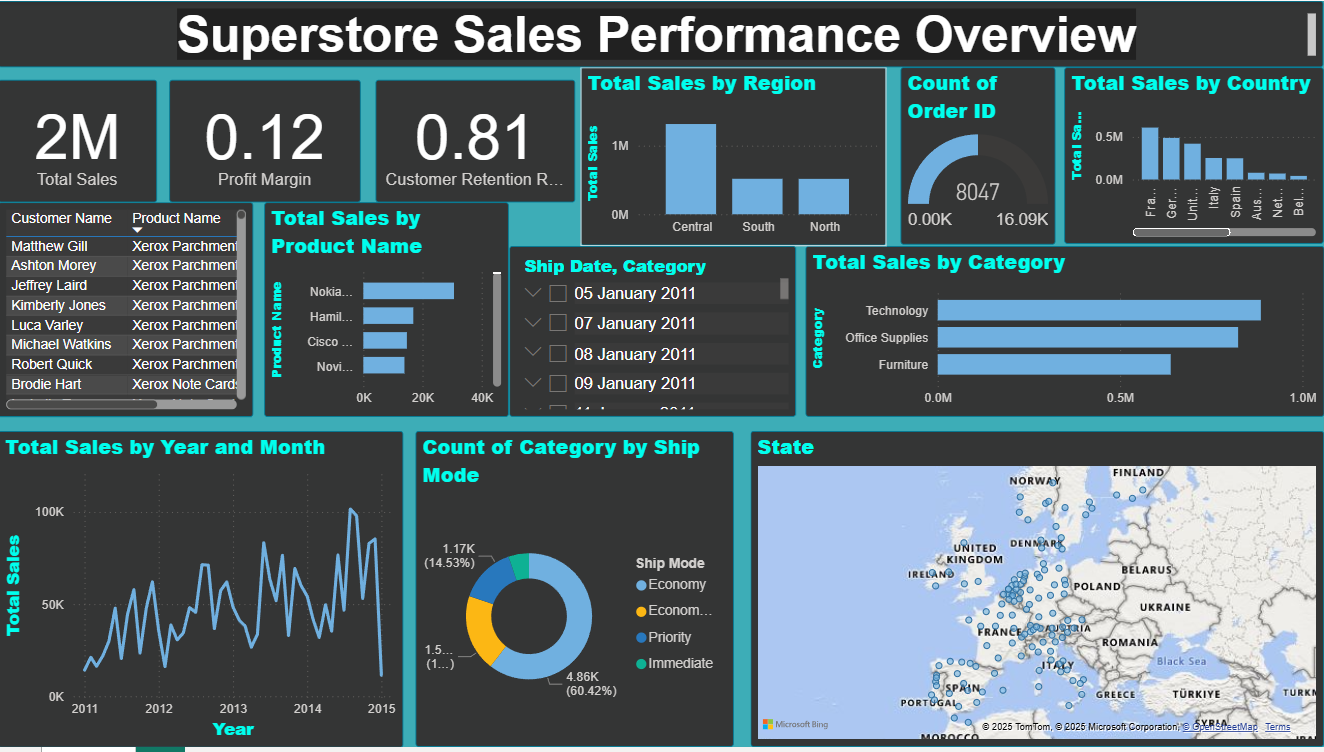

The page's visual inventory and layout, read from the dashboard file:
{"tool":"powerbi","page":{"name":"Page 1","canvas":[1280,720],"ordinal":0},"visuals":[{"type":"card","fields":{"Values":["OrderBreakdown.Total Sales"]},"box":[0,75.6,153.5,118.6],"z":0},{"type":"card","fields":{"Values":["OrderBreakdown.Profit Margin"]},"box":[165.1,75.6,184.9,118.6],"z":1000},{"type":"card","fields":{"Values":["ListOfOrders.Customer Retention Rate"]},"box":[364,75.6,193,118.6],"z":2000},{"type":"lineChart","fields":{"Y":["OrderBreakdown.Total Sales"],"Category":["ListOfOrders.Ship Date.Variation.Date Hierarchy.Year","ListOfOrders.Ship Date.Variation.Date Hierarchy.Month"]},"box":[0,414.8,391.3,305.5],"z":3000},{"type":"clusteredBarChart","fields":{"Y":["OrderBreakdown.Total Sales"],"Category":["OrderBreakdown.Category"]},"box":[779.1,236,501.2,165.1],"z":4000},{"type":"clusteredBarChart","fields":{"Y":["OrderBreakdown.Total Sales"],"Category":["OrderBreakdown.Product Name"]},"box":[257,194.2,236,207],"z":5000},{"type":"columnChart","fields":{"Category":["ListOfOrders.Region"],"Y":["OrderBreakdown.Total Sales"]},"box":[562.8,64,295.3,172.1],"z":6000},{"type":"tableEx","fields":{"Values":["ListOfOrders.Customer Name","OrderBreakdown.Product Name"]},"box":[0,194.2,246.5,207],"z":7000},{"type":"slicer","fields":{"Values":["ListOfOrders.Ship Date","OrderBreakdown.Category"]},"box":[493,236,276.7,165.1],"z":8000},{"type":"map","fields":{"Category":["ListOfOrders.State","ListOfOrders.City","ListOfOrders.Country"]},"box":[726.7,415.1,553.5,304.7],"z":9000},{"type":"gauge","fields":{"Y":["CountNonNull(OrderBreakdown.Order ID)"]},"box":[870.6,63.4,149.2,171.5],"z":10000},{"type":"donutChart","fields":{"Category":["ListOfOrders.Ship Mode"],"Y":["CountNonNull(OrderBreakdown.Category)"]},"box":[403.5,415.1,307,304.7],"z":11000},{"type":"lineClusteredColumnComboChart","fields":{"Category":["ListOfOrders.Country"],"Y":["OrderBreakdown.Total Sales"]},"box":[1029.2,63.4,250.3,170.4],"z":12000},{"type":"textbox","box":[0,0,1279.1,64],"z":13000}]}

Visuals, with their boxes in screenshot pixels (x1, y1, x2, y2), scaled from the page's 1280x720 canvas onto the 1324x752 screenshot:
card - OrderBreakdown.Total Sales: {"left": 0, "top": 79, "right": 159, "bottom": 203}
card - OrderBreakdown.Profit Margin: {"left": 171, "top": 79, "right": 362, "bottom": 203}
card - ListOfOrders.Customer Retention Rate: {"left": 377, "top": 79, "right": 576, "bottom": 203}
lineChart - OrderBreakdown.Total Sales x ListOfOrders.Ship Date.Variation.Date Hierarchy.Year: {"left": 0, "top": 433, "right": 405, "bottom": 751}
clusteredBarChart - OrderBreakdown.Total Sales x OrderBreakdown.Category: {"left": 806, "top": 246, "right": 1323, "bottom": 419}
clusteredBarChart - OrderBreakdown.Total Sales x OrderBreakdown.Product Name: {"left": 266, "top": 203, "right": 510, "bottom": 419}
columnChart - ListOfOrders.Region x OrderBreakdown.Total Sales: {"left": 582, "top": 67, "right": 888, "bottom": 247}
tableEx - ListOfOrders.Customer Name x OrderBreakdown.Product Name: {"left": 0, "top": 203, "right": 255, "bottom": 419}
slicer - ListOfOrders.Ship Date x OrderBreakdown.Category: {"left": 510, "top": 246, "right": 796, "bottom": 419}
map - ListOfOrders.State x ListOfOrders.City: {"left": 752, "top": 434, "right": 1323, "bottom": 751}
gauge - CountNonNull(OrderBreakdown.Order ID): {"left": 901, "top": 66, "right": 1055, "bottom": 245}
donutChart - ListOfOrders.Ship Mode x CountNonNull(OrderBreakdown.Category): {"left": 417, "top": 434, "right": 735, "bottom": 751}
lineClusteredColumnComboChart - ListOfOrders.Country x OrderBreakdown.Total Sales: {"left": 1065, "top": 66, "right": 1323, "bottom": 244}
textbox: {"left": 0, "top": 0, "right": 1323, "bottom": 67}
